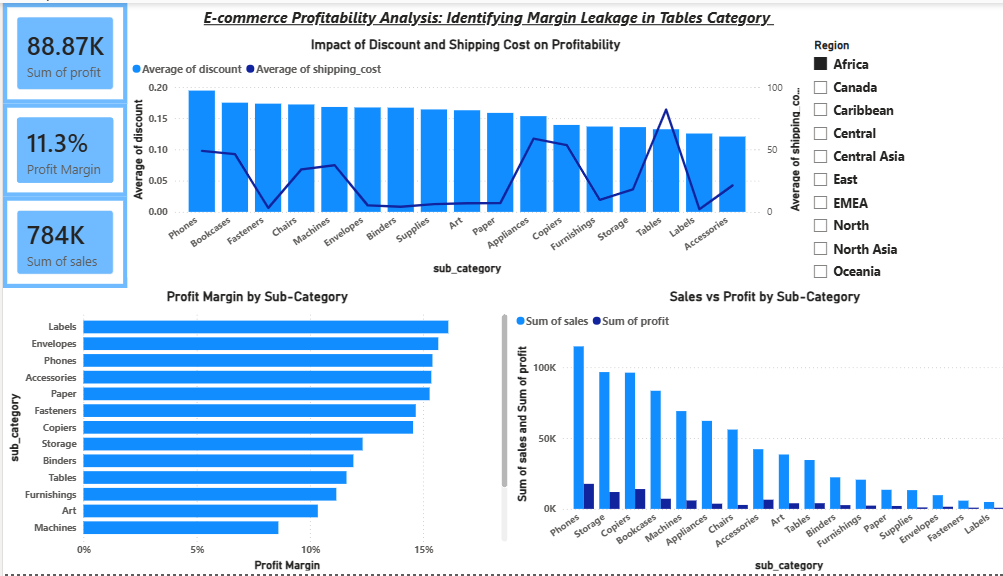

Layout of this report page (visuals, bound fields, positions):
{"tool":"powerbi","page":{"name":"Page 1","canvas":[1280,720],"ordinal":0},"visuals":[{"type":"cardVisual","fields":{"Data":["Sum(SuperStoreOrdersEDA2.sales)"]},"box":[0,243.8,156.9,115.3],"z":0},{"type":"cardVisual","fields":{"Data":["SuperStoreOrdersEDA2.Profit Margin"]},"box":[0,126.6,156.9,117.2],"z":1000},{"type":"lineClusteredColumnComboChart","title":"Impact of Discount and Shipping Cost on Profitability","fields":{"Category":["SuperStoreOrdersEDA2.sub_category"],"Y":["Avg(SuperStoreOrdersEDA2.discount)"],"Y2":["Avg(SuperStoreOrdersEDA2.shipping_cost)"]},"box":[156.9,41.6,852.3,304.3],"z":3000},{"type":"slicer","fields":{"Values":["SuperStoreOrdersEDA2.region"]},"box":[1009.1,39.7,270.2,319.4],"z":4000},{"type":"clusteredBarChart","title":"Profit Margin by Sub-Category","fields":{"Category":["SuperStoreOrdersEDA2.sub_category"],"Y":["SuperStoreOrdersEDA2.Profit Margin"]},"box":[0,359.1,640.6,360.9],"z":5000},{"type":"clusteredColumnChart","title":"Sales vs Profit by Sub-Category","fields":{"Category":["SuperStoreOrdersEDA2.sub_category"],"Y":["Sum(SuperStoreOrdersEDA2.sales)","Sum(SuperStoreOrdersEDA2.profit)"]},"box":[640.6,359.1,638.7,360.9],"z":6000},{"type":"textbox","box":[247.6,0,774.8,41.6],"z":7000},{"type":"cardVisual","fields":{"Data":["Sum(SuperStoreOrdersEDA2.profit)"]},"box":[0,0,156.9,126.6],"z":7001}]}

Visuals, with their boxes in screenshot pixels (x1, y1, x2, y2), scaled from the page's 1280x720 canvas onto the 1003x576 screenshot:
cardVisual - Sum(SuperStoreOrdersEDA2.sales): <box>0,195,123,287</box>
cardVisual - SuperStoreOrdersEDA2.Profit Margin: <box>0,101,123,195</box>
"Impact of Discount and Shipping Cost on Profitability" lineClusteredColumnComboChart: <box>123,33,791,277</box>
slicer - SuperStoreOrdersEDA2.region: <box>791,32,1002,287</box>
"Profit Margin by Sub-Category" clusteredBarChart: <box>0,287,502,575</box>
"Sales vs Profit by Sub-Category" clusteredColumnChart: <box>502,287,1002,575</box>
textbox: <box>194,0,801,33</box>
cardVisual - Sum(SuperStoreOrdersEDA2.profit): <box>0,0,123,101</box>
